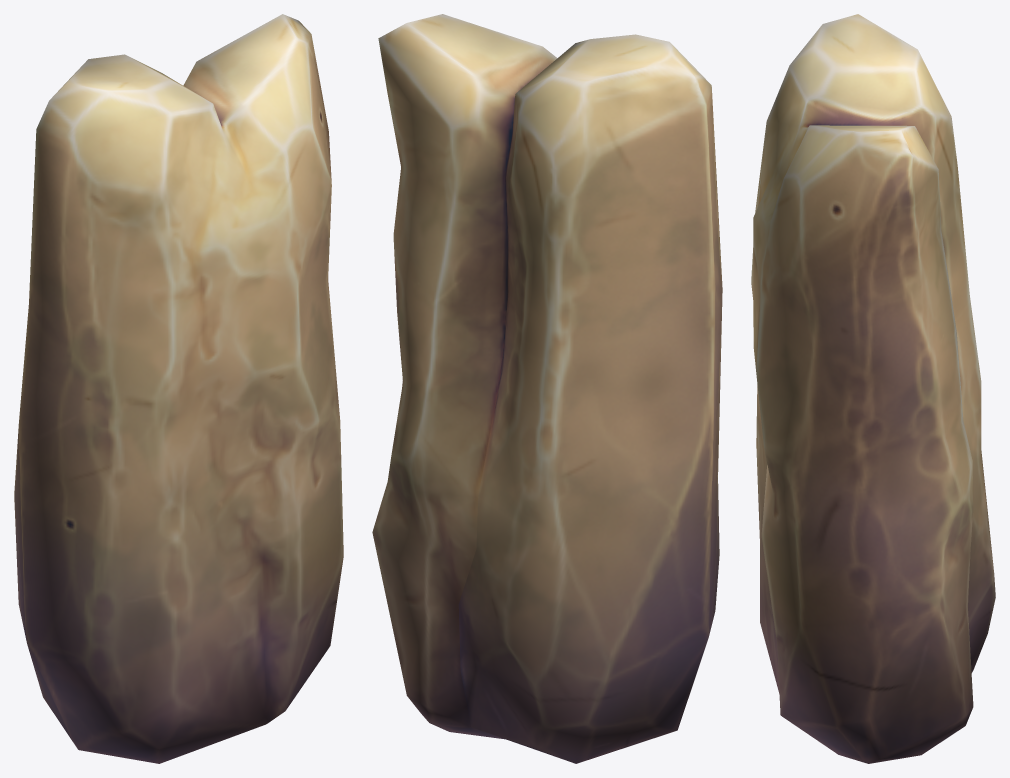
Rendered from SM_Gem_Moonstone_005.fbx.
3 views of the same model, side by side, from view 1: azimuth 30°, elevation 25°; view 2: azimuth 150°, elevation 25°; view 3: azimuth 270°, elevation 25° (orthographic). The views are drawn at different scales.
Visible parts, largest first — view 1: SM_Gem_Moonstone_005; view 2: SM_Gem_Moonstone_005; view 3: SM_Gem_Moonstone_005.
Boxes of the visible parts, x1=… form: SM_Gem_Moonstone_005: x1=14, y1=14, x2=343, y2=763; SM_Gem_Moonstone_005: x1=372, y1=14, x2=722, y2=763; SM_Gem_Moonstone_005: x1=751, y1=14, x2=995, y2=763.
Bounding box in the file's own units: 33.68 × 70.02 × 23.75.
